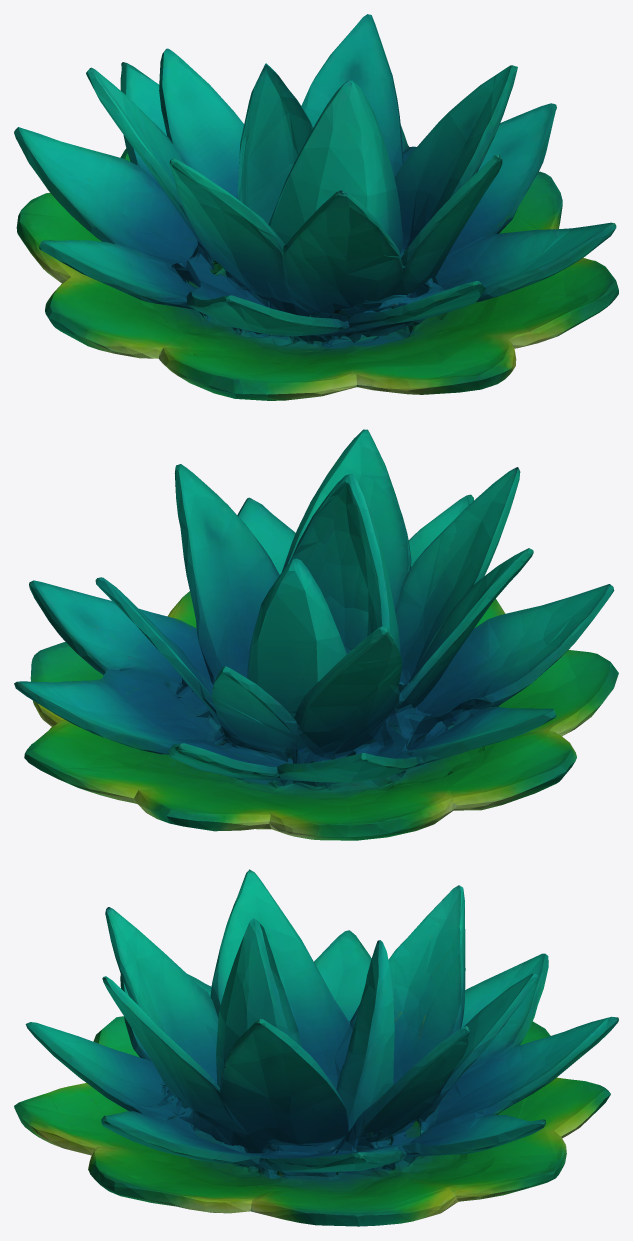
File: weeds.glb
3 views of the same model, one above another, from view 1: azimuth 30°, elevation 25°; view 2: azimuth 150°, elevation 25°; view 3: azimuth 270°, elevation 25° (orthographic). The views are drawn at different scales.
Visible parts, largest first — view 1: geometry_0; view 2: geometry_0; view 3: geometry_0.
Boxes of the visible parts, <box> form: geometry_0: <box>14,14,618,400</box>; geometry_0: <box>14,429,618,840</box>; geometry_0: <box>14,869,618,1226</box>.
Size of the model in its own units: 0.9085 by 0.491 by 0.9973.
1 material, 1 textured.
